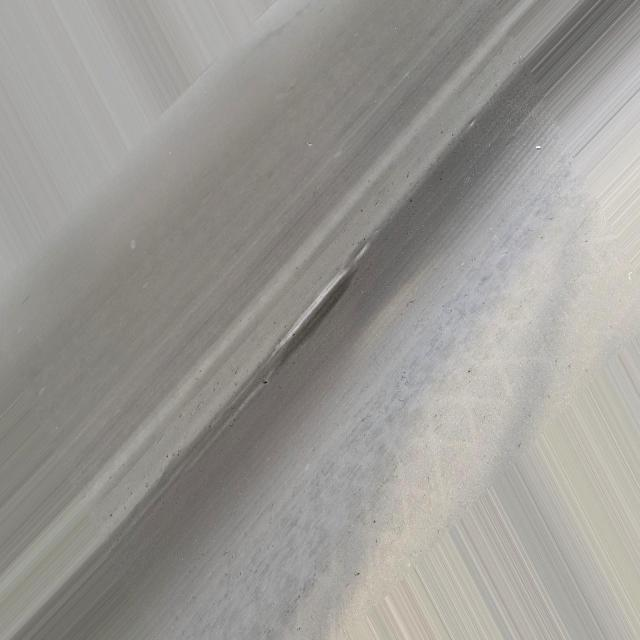Impact Damage: (264, 240, 376, 363)
